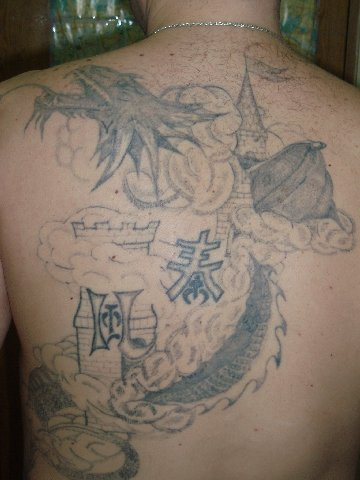tatu6_drakon: (28, 61, 232, 190)
